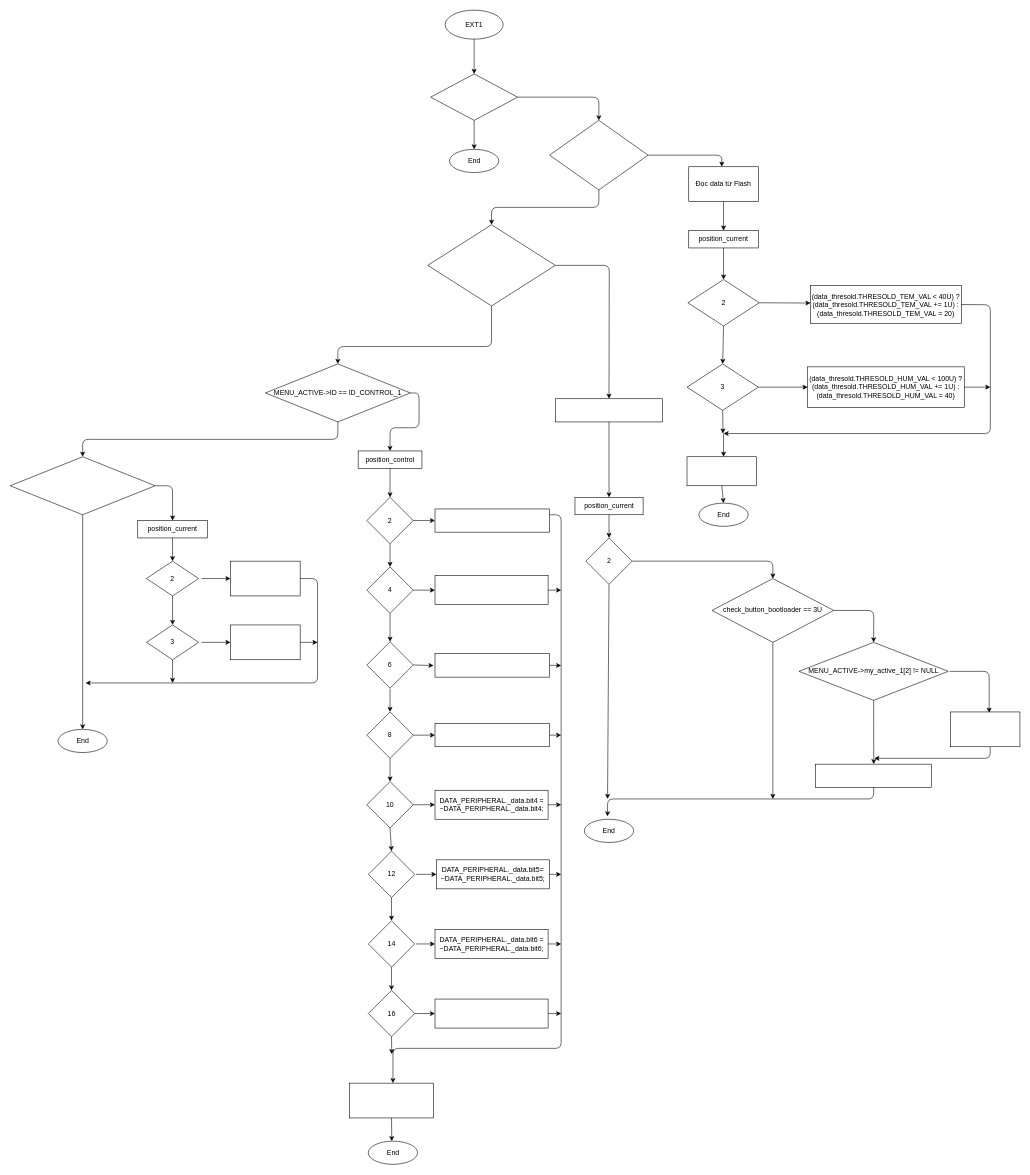
Image size: 1030x1175. Some labels were removed from this diagram. The shapes that lost their labels are listed below. From the top down, each one's centre as x and y in pixels, then its label:
At (x=474, y=96): "EXTI->PR&(1U<<1)".
At (x=598, y=155): "MENU_ACTIVE->ID == ID_THRESOLD_1".
At (x=491, y=265): "MENU_ACTIVE->ID == ID_UPDATE".
At (x=609, y=410): "check_button_bootloader += 1;".
At (x=82, y=485): "MENU_ACTIVE->ID == ID_OUTHOUSE_1".
At (x=721, y=471): "Xóa flash Ghi data flash Hiển thị".
At (x=492, y=520): "DATA_PERIPHERAL._data.bit0 = ~DATA_PERIPHERAL._data.bit0;".
At (x=265, y=578): "Đẩy mái che".
At (x=491, y=590): "DATA_PERIPHERAL._data.bit1= ~DATA_PERIPHERAL._data.bit1;".
At (x=265, y=642): "Kéo mái che".
At (x=492, y=665): "DATA_PERIPHERAL._data.bitt2= ~DATA_PERIPHERAL._data.bit2;".
At (x=492, y=735): "DATA_PERIPHERAL._data.bit3 = ~DATA_PERIPHERAL._data.bit3;".
At (x=985, y=729): "Call function2 node hiện tại".
At (x=873, y=775): "check_button_bootloader = 0U;".
At (x=491, y=1013): "DATA_PERIPHERAL._data.bit7 = ~DATA_PERIPHERAL._data.bit7;".
At (x=391, y=1100): "Start IC74HC595 Xóa flash Ghi flash Hiển thị".
